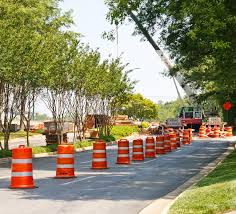barrel: (11, 147, 34, 189), (56, 145, 75, 178), (93, 141, 106, 169), (118, 140, 130, 164), (133, 140, 143, 159), (147, 137, 154, 157), (169, 134, 176, 149), (183, 129, 190, 144), (157, 136, 163, 153), (200, 125, 206, 139), (165, 136, 170, 152), (227, 127, 233, 138), (213, 127, 219, 138), (175, 135, 181, 145), (207, 125, 211, 132)
